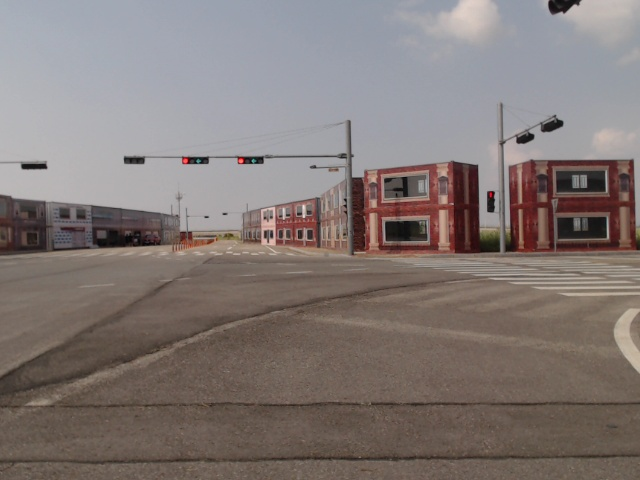left_green_4: (182, 157, 208, 164), (238, 157, 263, 164)
